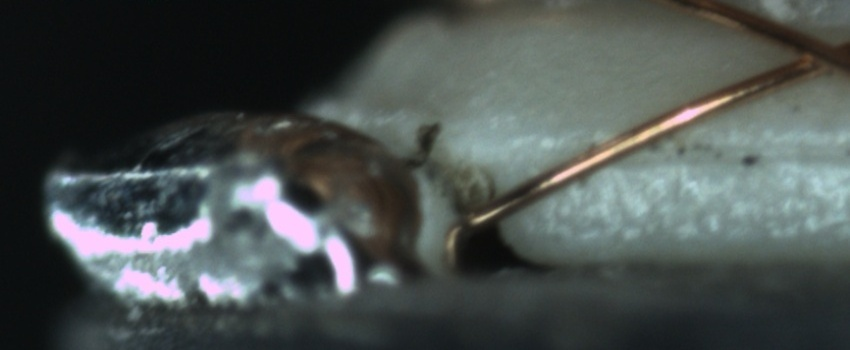CL: (768, 25, 847, 86)
DL: (545, 113, 849, 186)
